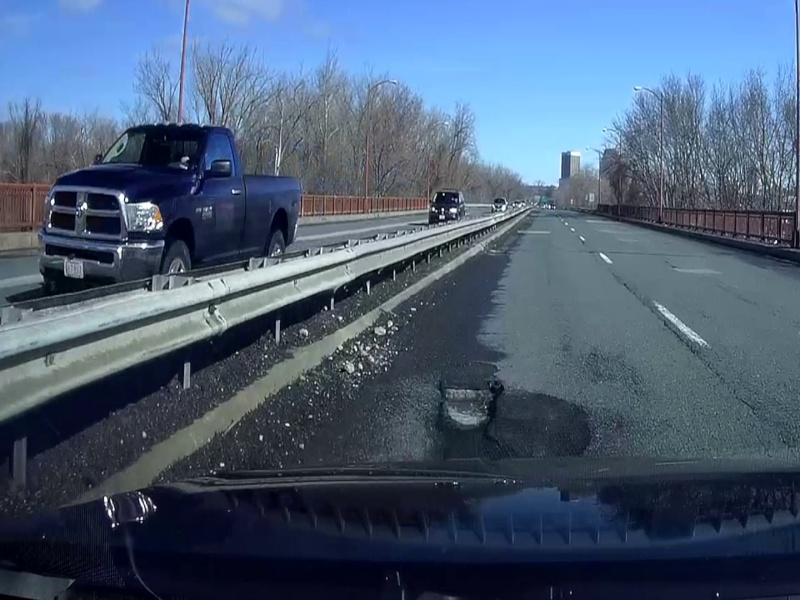pothole: (428, 367, 594, 463)
